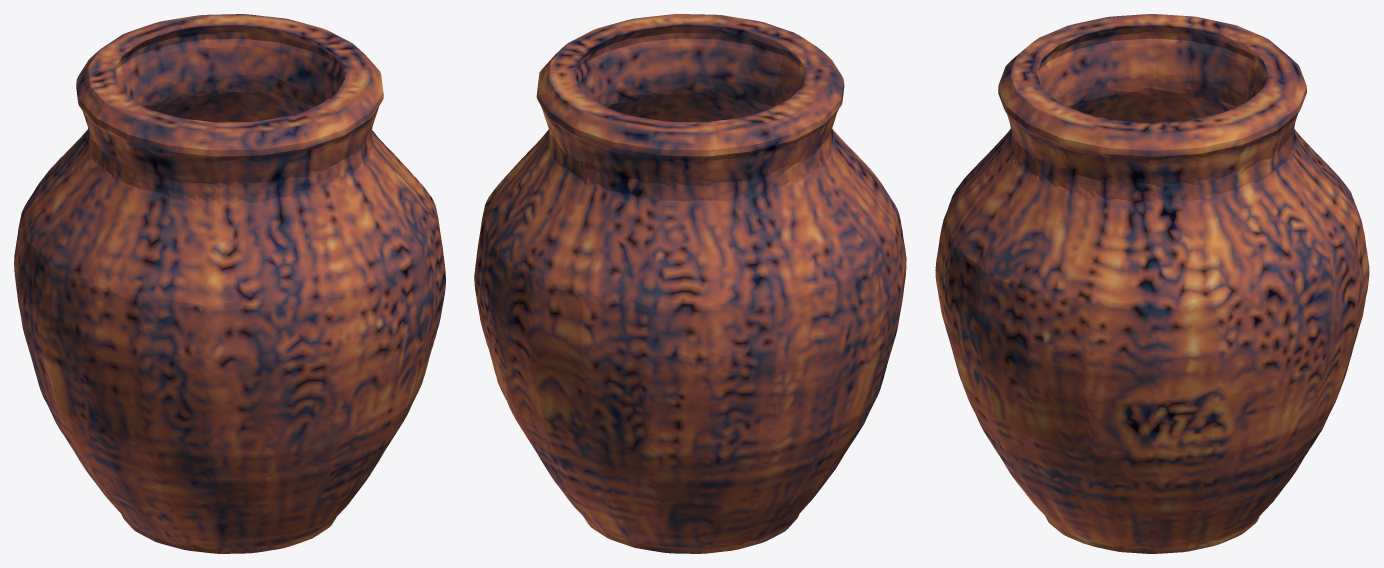
Rendered from vase_final200.obj.
3 views of the same model, side by side, from view 1: azimuth 30°, elevation 25°; view 2: azimuth 150°, elevation 25°; view 3: azimuth 270°, elevation 25° (orthographic).
Bounding box in the file's own units: 1.53 × 1.69 × 1.54.
